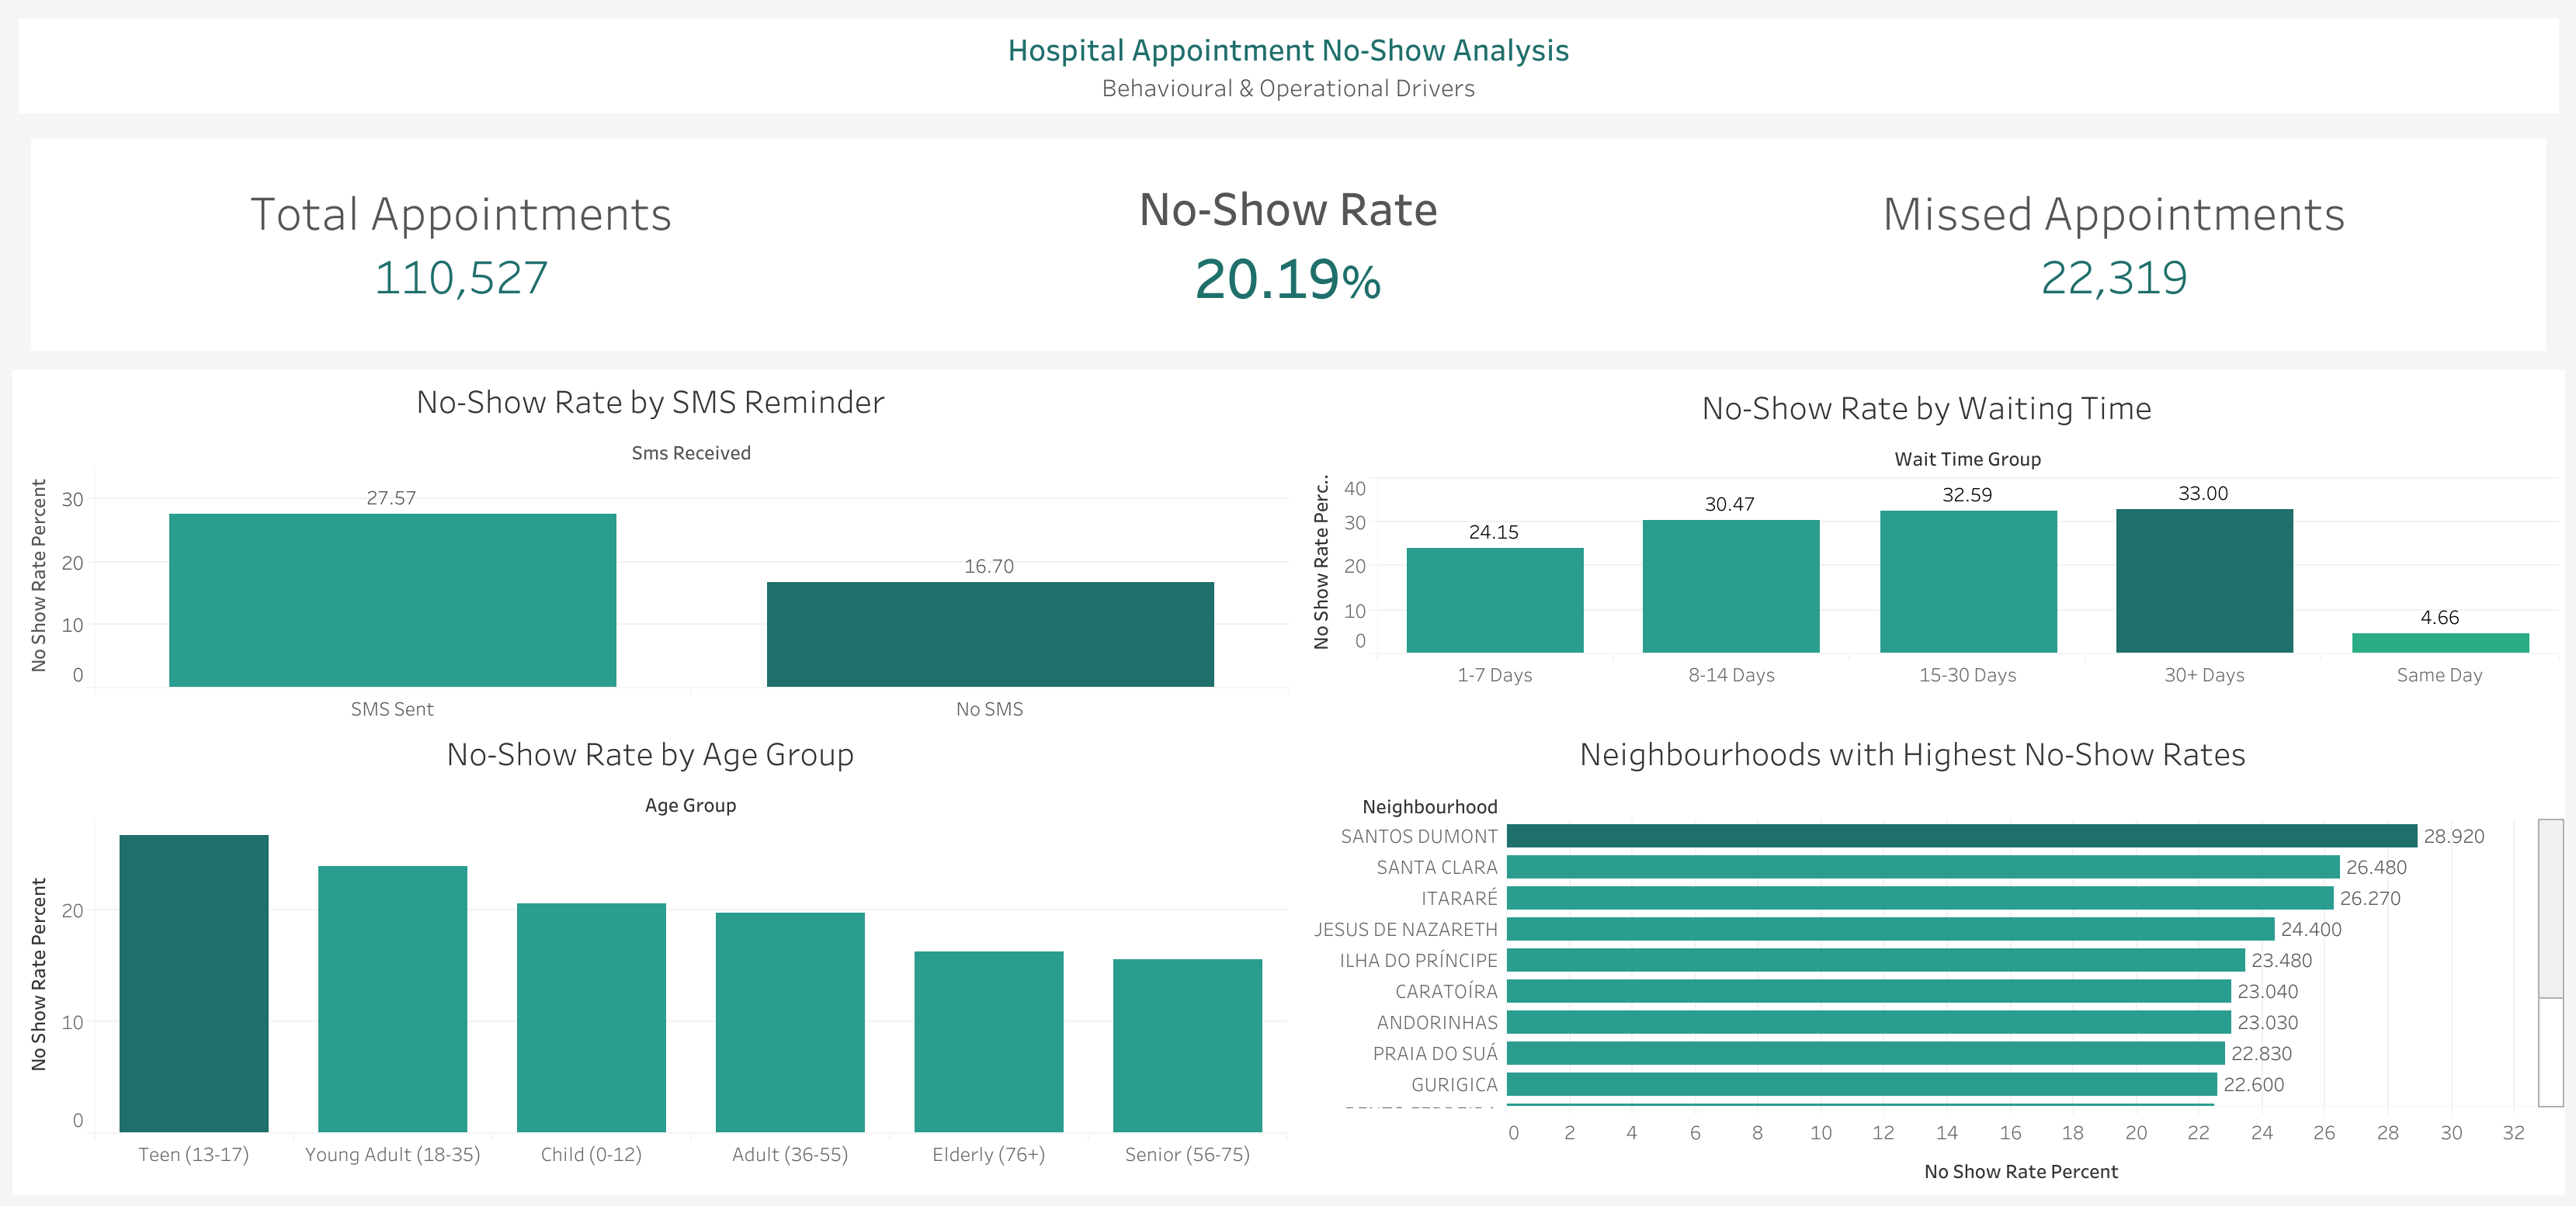

What the dashboard file says about the page in this screenshot:
{"tool":"tableau","page":{"name":"Dashboard 1","canvas":[1000,1000],"units":"permille","ordinal":0},"visuals":[{"type":"text","box":[7.5,11.5,985.1,88.8]},{"type":"worksheet","title":"Overall KPIs","mark":"Automatic","box":[29.9,134.7,313.4,137.5]},{"type":"worksheet","title":"Overall KPIs (3)","mark":"Automatic","box":[343.3,134.7,313.4,137.5]},{"type":"worksheet","title":"Overall KPIs (2)","mark":"Automatic","box":[656.7,134.7,313.4,137.5]},{"type":"worksheet","title":"SMS No Show Rate","mark":"Automatic","rows":["no_show_rate_percent"],"cols":["sms_received"],"box":[7.5,306.6,492.5,290.8]},{"type":"worksheet","title":"Wait Time Impact","mark":"Automatic","rows":["no_show_rate_percent"],"cols":["wait_time_group"],"box":[500,306.6,492.5,290.8]},{"type":"worksheet","title":"No-Show Rate by Age Group","mark":"Automatic","rows":["no_show_rate_percent"],"cols":["age_group"],"box":[7.5,597.4,492.5,391.1]},{"type":"worksheet","title":"No-Show Rate by Neighbourhood","mark":"Automatic","rows":["neighbourhood"],"cols":["no_show_rate_percent"],"box":[500,597.4,492.5,391.1]}]}

Visuals, with their boxes on the dashboard's canvas, which has no fixed pixel size, in thousandths of its width and height (x1, y1, x2, y2). These are canvas units, not pixel positions in the 2576x1206 screenshot, which may show the page scaled, cropped or inside an application window:
text: crop(8, 12, 993, 100)
"Overall KPIs" worksheet: crop(30, 135, 343, 272)
"Overall KPIs (3)" worksheet: crop(343, 135, 657, 272)
"Overall KPIs (2)" worksheet: crop(657, 135, 970, 272)
"SMS No Show Rate" worksheet: crop(8, 307, 500, 597)
"Wait Time Impact" worksheet: crop(500, 307, 992, 597)
"No-Show Rate by Age Group" worksheet: crop(8, 597, 500, 988)
"No-Show Rate by Neighbourhood" worksheet: crop(500, 597, 992, 988)
